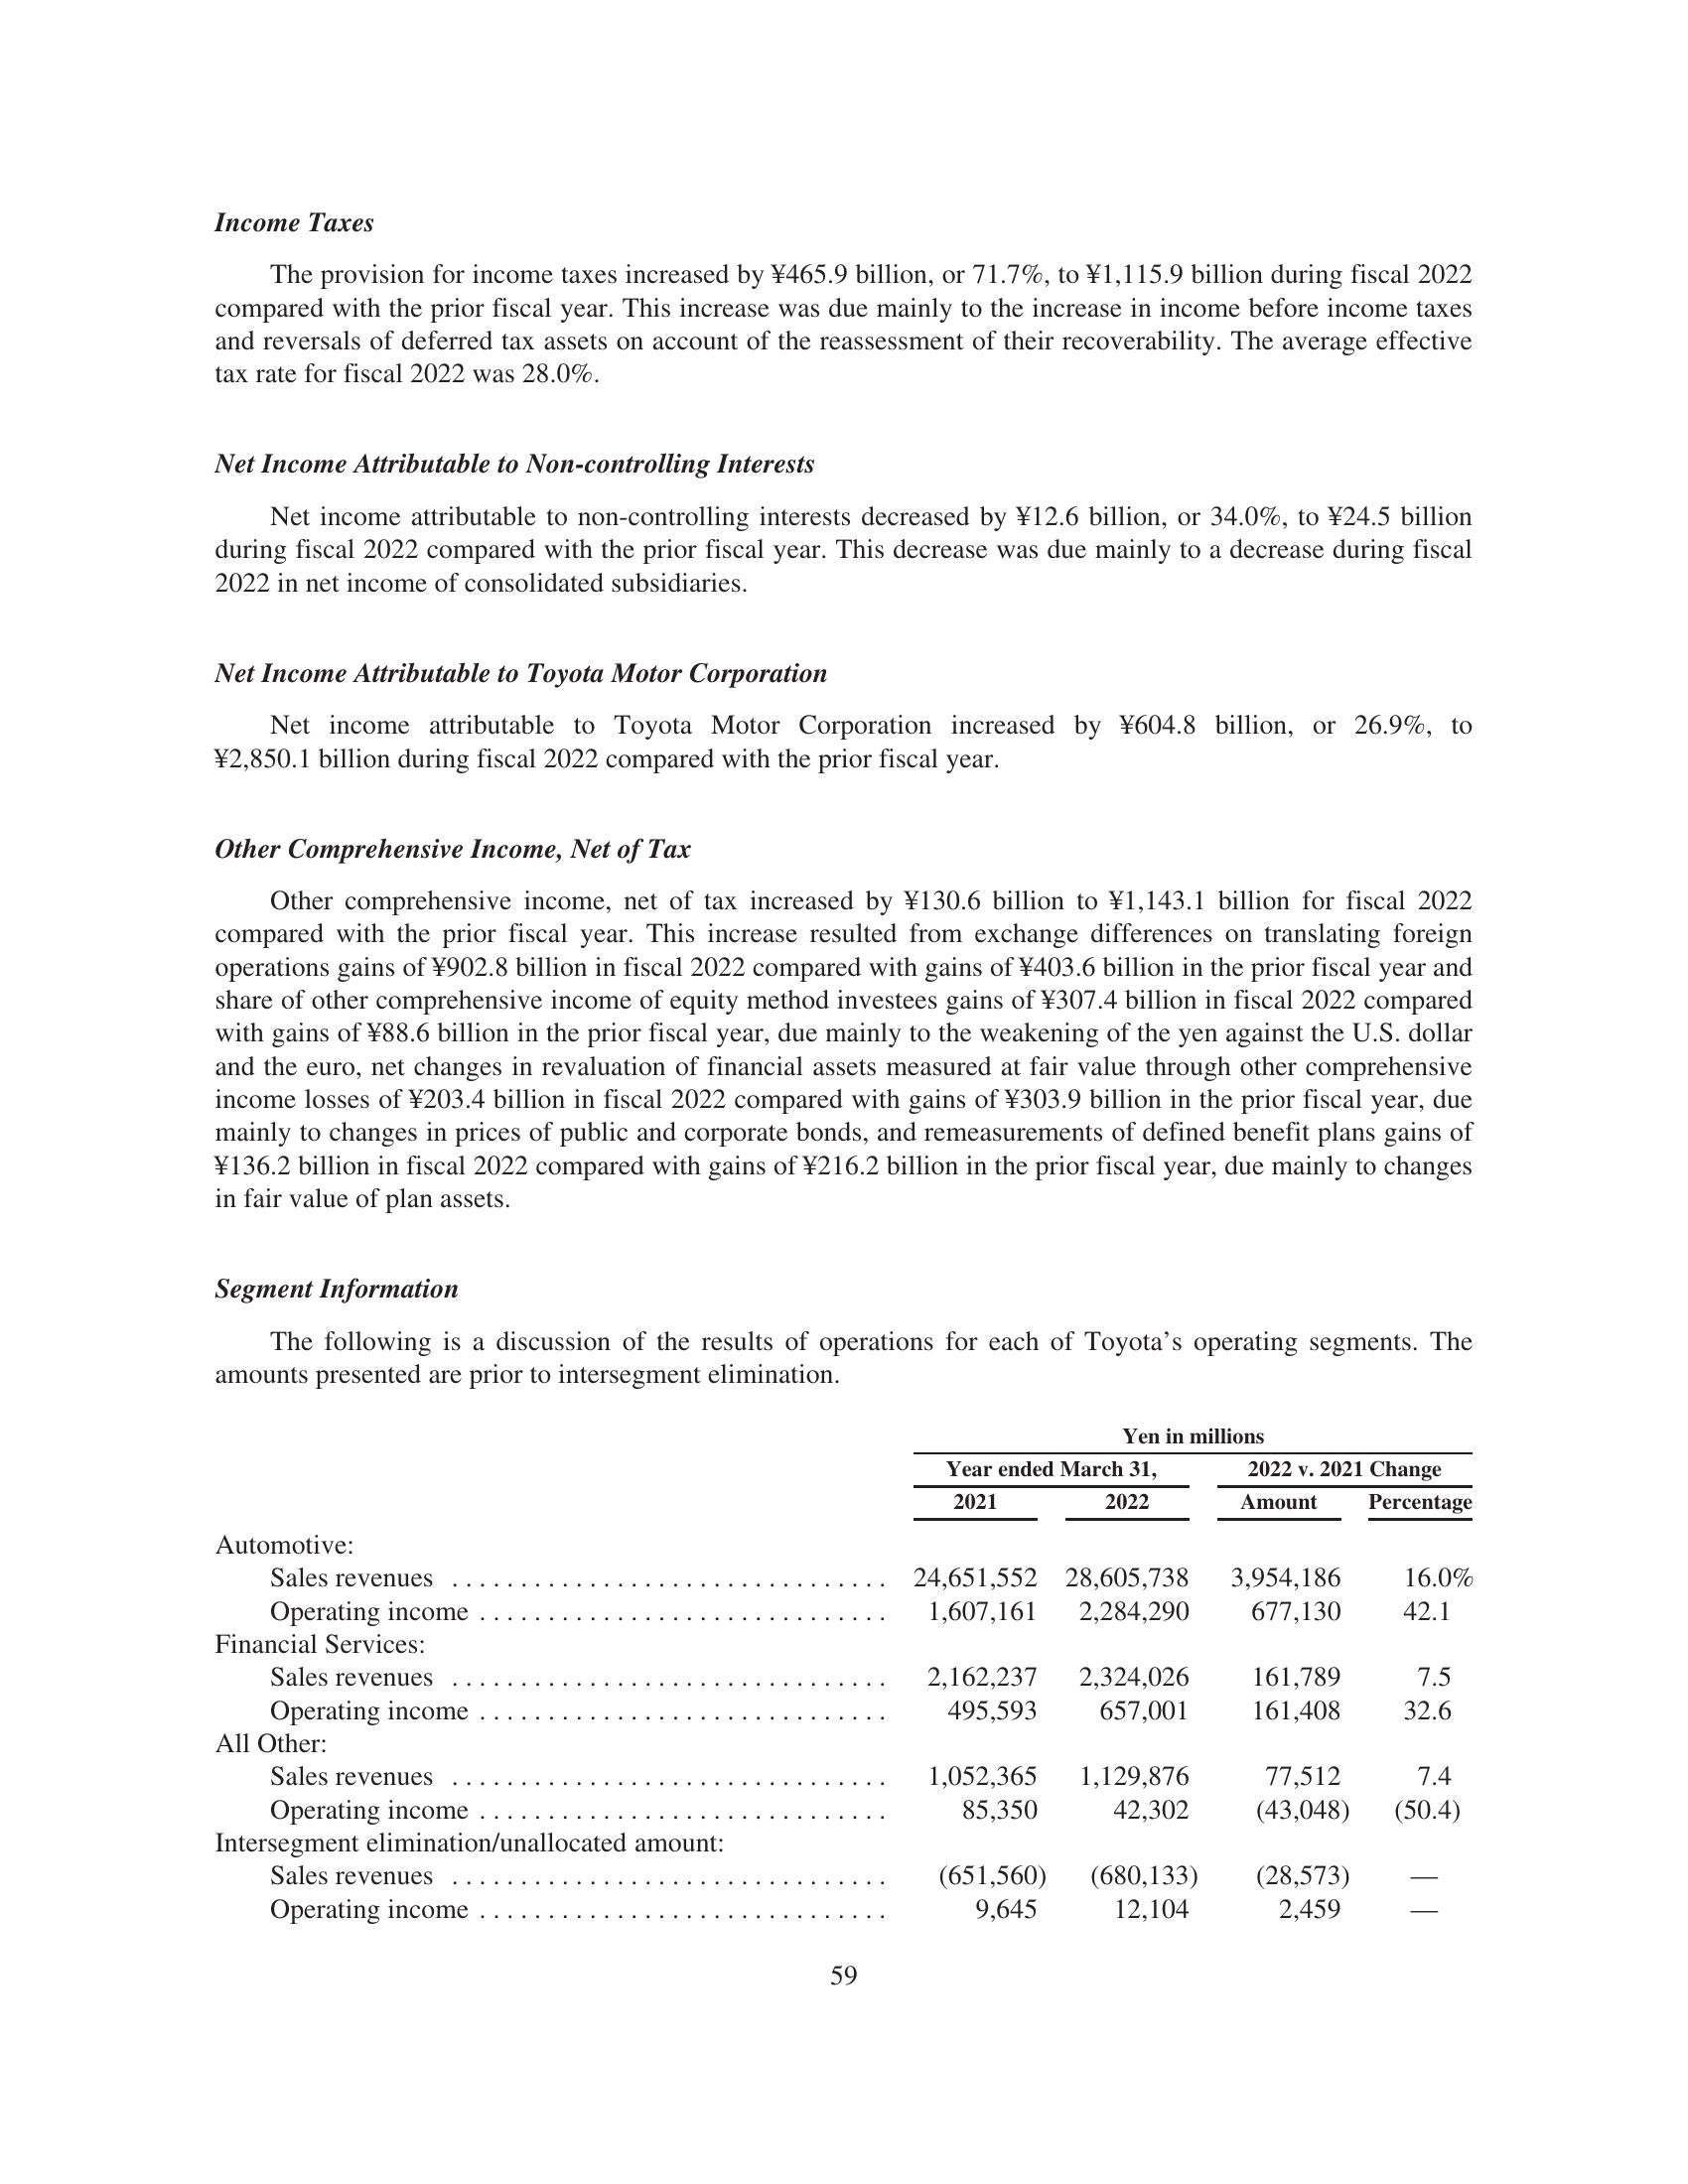Footer: (9, 1950, 1688, 2184)
Header: (0, 0, 1688, 179)
Table: (142, 1404, 1551, 1938)
